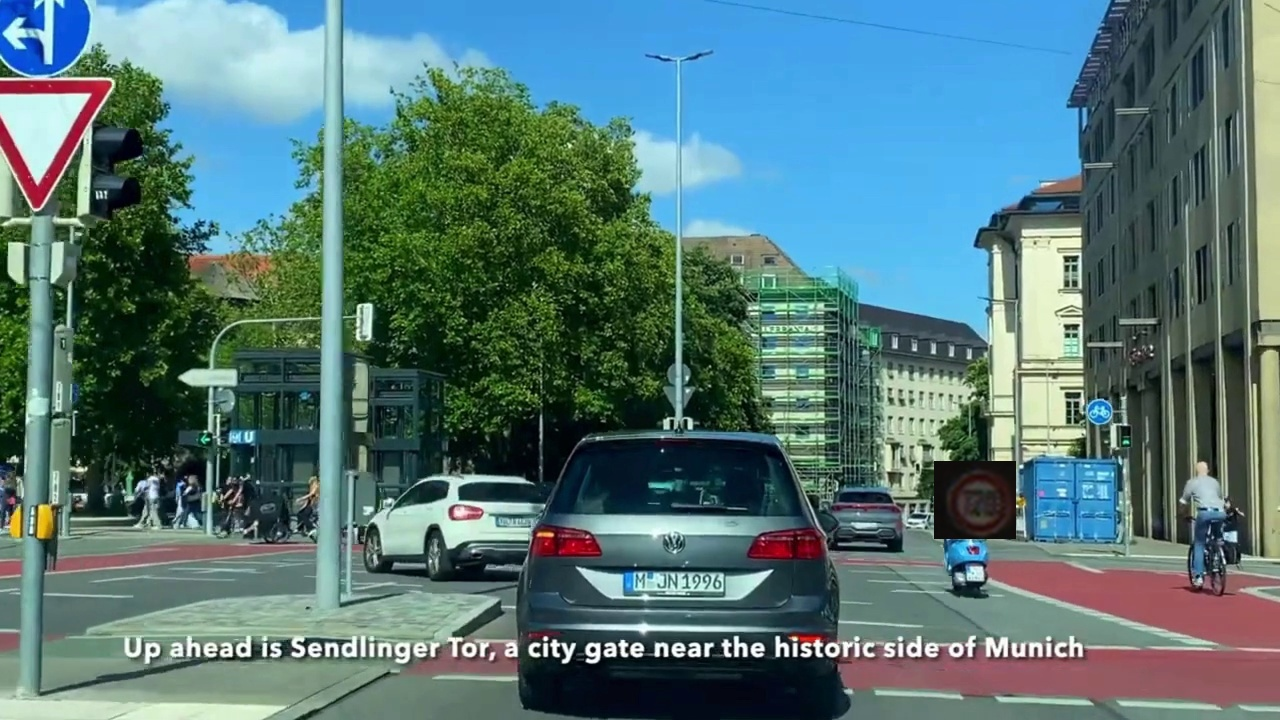Speed 120: (934, 461, 1016, 539)
